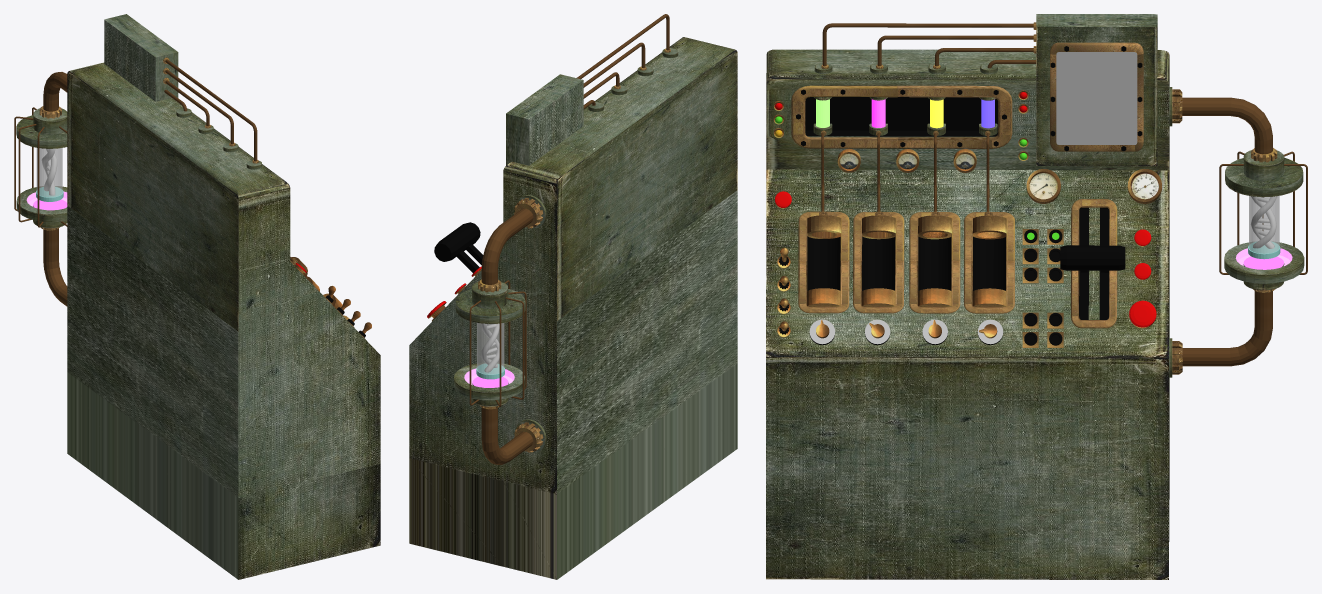
The model's file is ANALIZATORV2.4.fbx.
3 renders of one model, left to right at view 1: azimuth 30°, elevation 25°; view 2: azimuth 150°, elevation 25°; view 3: azimuth 270°, elevation 25°, orthographic. The views are drawn at different scales.
Parts seen in each view (by area): view 1: Cube.002, Cube.001, Circle, Plane.016, Cylinder.092, Cylinder.088, Plane.015, Cylinder.009, Plane.013, Cylinder.001, Cylinder.027; view 2: Cube.002, Cube.001, Cylinder.092, Plane.016, Plane.015, Cylinder.089, Cylinder.088, Circle, Cylinder.009, Cylinder.001, Plane.013, Cylinder.027 (+2 smaller); view 3: Cube.002, Cube.001, Plane.005, Cylinder.056, Cylinder.066, Cylinder.057, Cylinder.067, Plane.016, Plane.014, Plane.015, Cylinder.092, Cylinder.088 (+9 smaller).
Boxes of the visible parts, x1=… form: Cube.002: x1=67, y1=62, x2=380, y2=579; Cube.001: x1=104, y1=14, x2=178, y2=101; Circle: x1=36, y1=148, x2=62, y2=197; Plane.016: x1=43, y1=228, x2=67, y2=306; Cylinder.092: x1=16, y1=186, x2=67, y2=222; Cylinder.088: x1=16, y1=115, x2=67, y2=148; Plane.015: x1=43, y1=72, x2=67, y2=111; Cylinder.009: x1=33, y1=108, x2=67, y2=134; Plane.013: x1=165, y1=59, x2=257, y2=161; Cylinder.001: x1=42, y1=148, x2=57, y2=195; Cylinder.027: x1=33, y1=199, x2=67, y2=228; Cube.002: x1=409, y1=37, x2=737, y2=579; Cube.001: x1=506, y1=74, x2=583, y2=165; Cylinder.092: x1=454, y1=363, x2=525, y2=400; Plane.016: x1=481, y1=407, x2=533, y2=464; Plane.015: x1=481, y1=208, x2=533, y2=284; Cylinder.089: x1=434, y1=222, x2=483, y2=272; Cylinder.088: x1=455, y1=289, x2=525, y2=323; Circle: x1=477, y1=323, x2=504, y2=374; Cylinder.009: x1=472, y1=281, x2=508, y2=308; Cylinder.001: x1=481, y1=323, x2=499, y2=372; Plane.013: x1=576, y1=14, x2=669, y2=79; Cylinder.027: x1=472, y1=376, x2=508, y2=406; Cube.002: x1=766, y1=49, x2=1169, y2=579; Cube.001: x1=1036, y1=14, x2=1157, y2=166; Plane.005: x1=791, y1=85, x2=1012, y2=148; Cylinder.056: x1=798, y1=211, x2=849, y2=313; Cylinder.066: x1=909, y1=212, x2=960, y2=313; Cylinder.057: x1=853, y1=212, x2=904, y2=313; Cylinder.067: x1=964, y1=212, x2=1014, y2=313; Plane.016: x1=1182, y1=291, x2=1272, y2=366; Plane.014: x1=1071, y1=199, x2=1117, y2=328; Plane.015: x1=1182, y1=97, x2=1272, y2=154; Cylinder.092: x1=1224, y1=242, x2=1304, y2=283; Cylinder.088: x1=1225, y1=157, x2=1303, y2=197.
Bounding box in the file's own units: 262 × 716 × 699.
